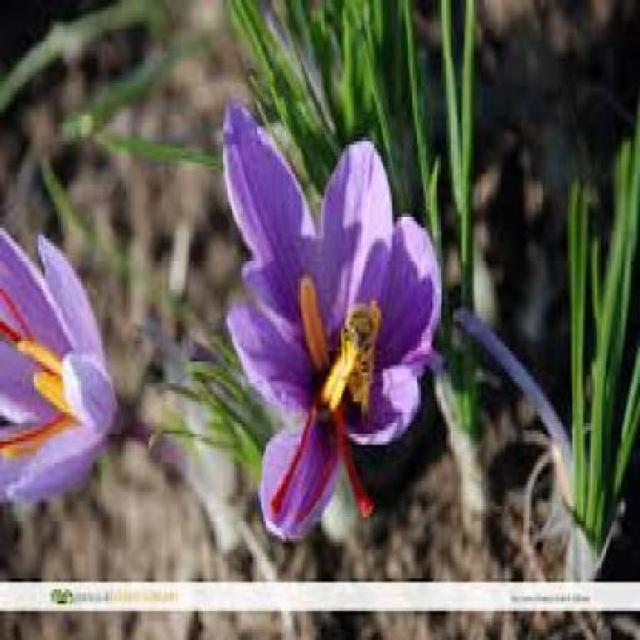saffron open: (224, 101, 443, 538), (0, 230, 116, 504)
